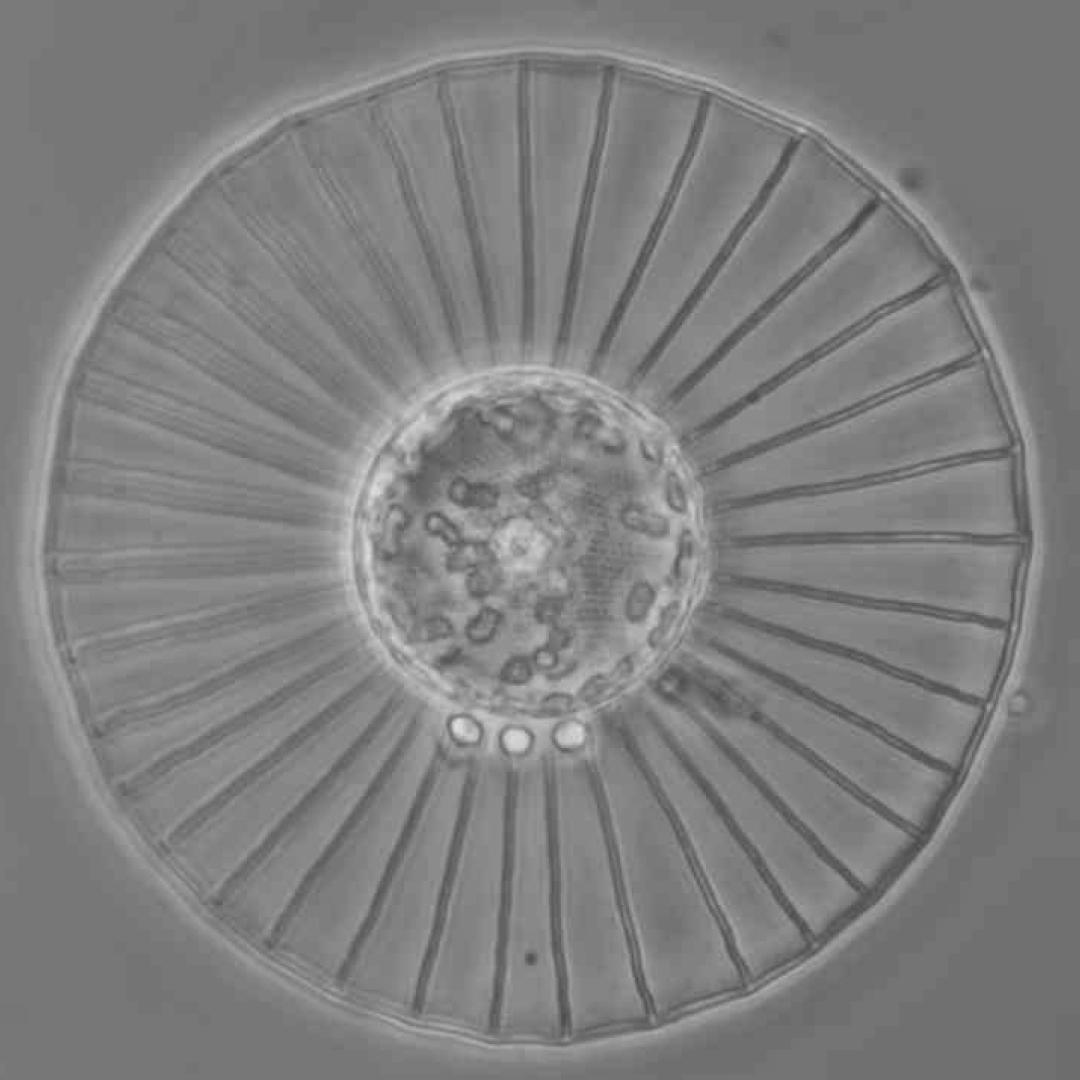planktoniella_sol: (47, 53, 1031, 1043)
